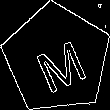M_NW: (26, 27, 87, 91)
